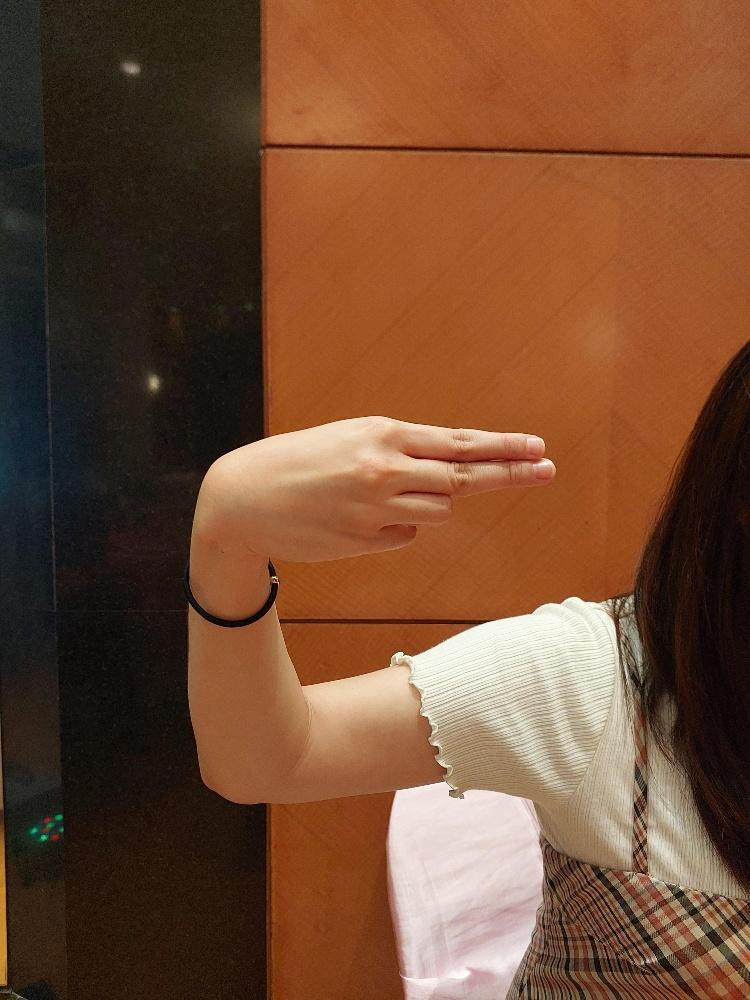h: (191, 410, 558, 563)
